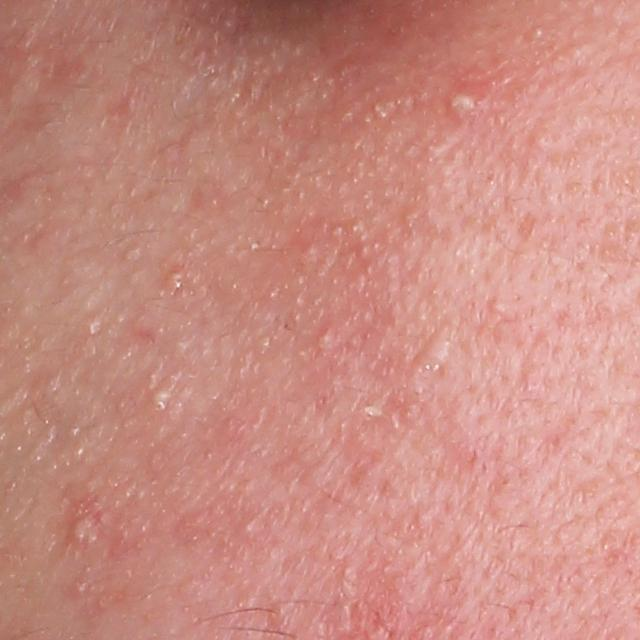comedo: (527, 128, 552, 151), (487, 298, 510, 318), (317, 329, 334, 351), (528, 27, 545, 39)
pustule: (58, 506, 114, 556), (445, 88, 482, 121), (145, 380, 178, 416)
